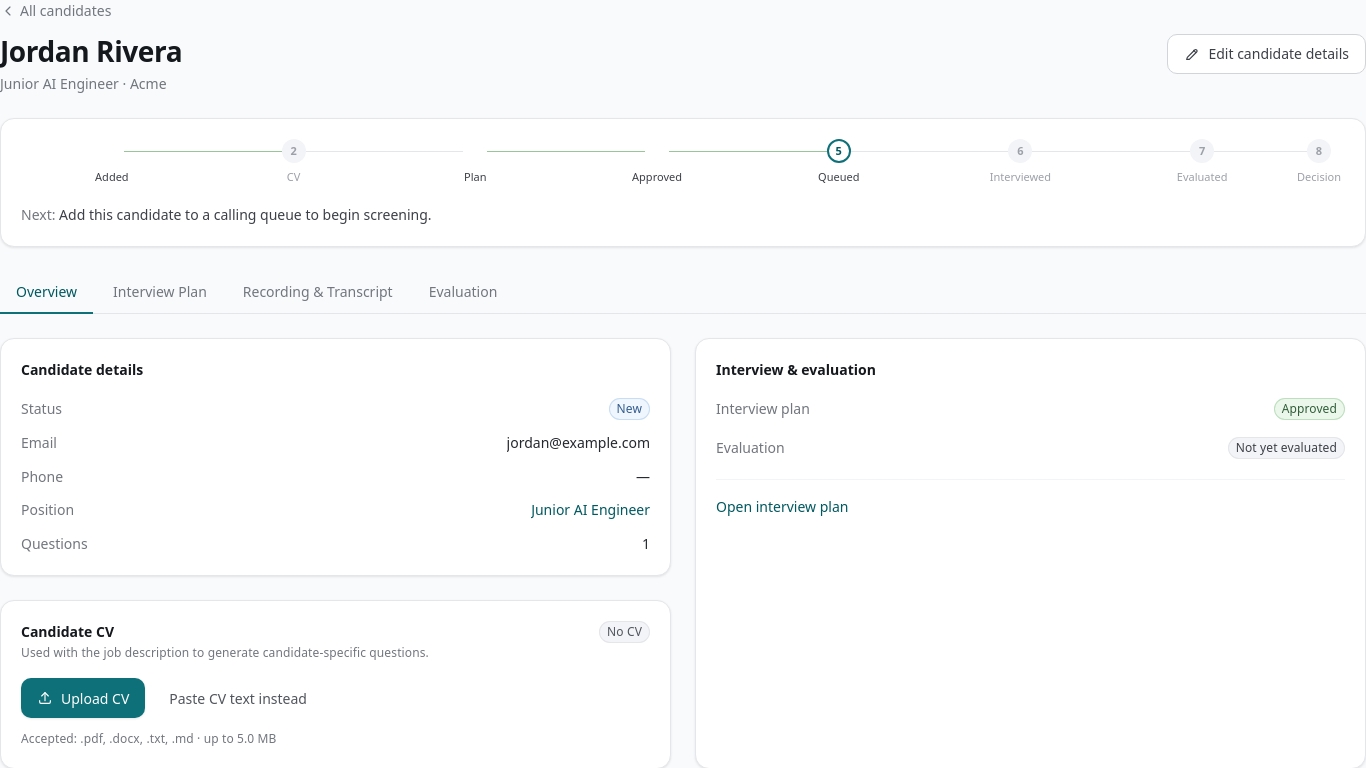
Test case: CandidateDetailPage › renders a compact content-sized prepared-interview empty state
Click the tab "Interview Plan" at point(160, 292), box 97,271 -> 223,314
(page scrolled)
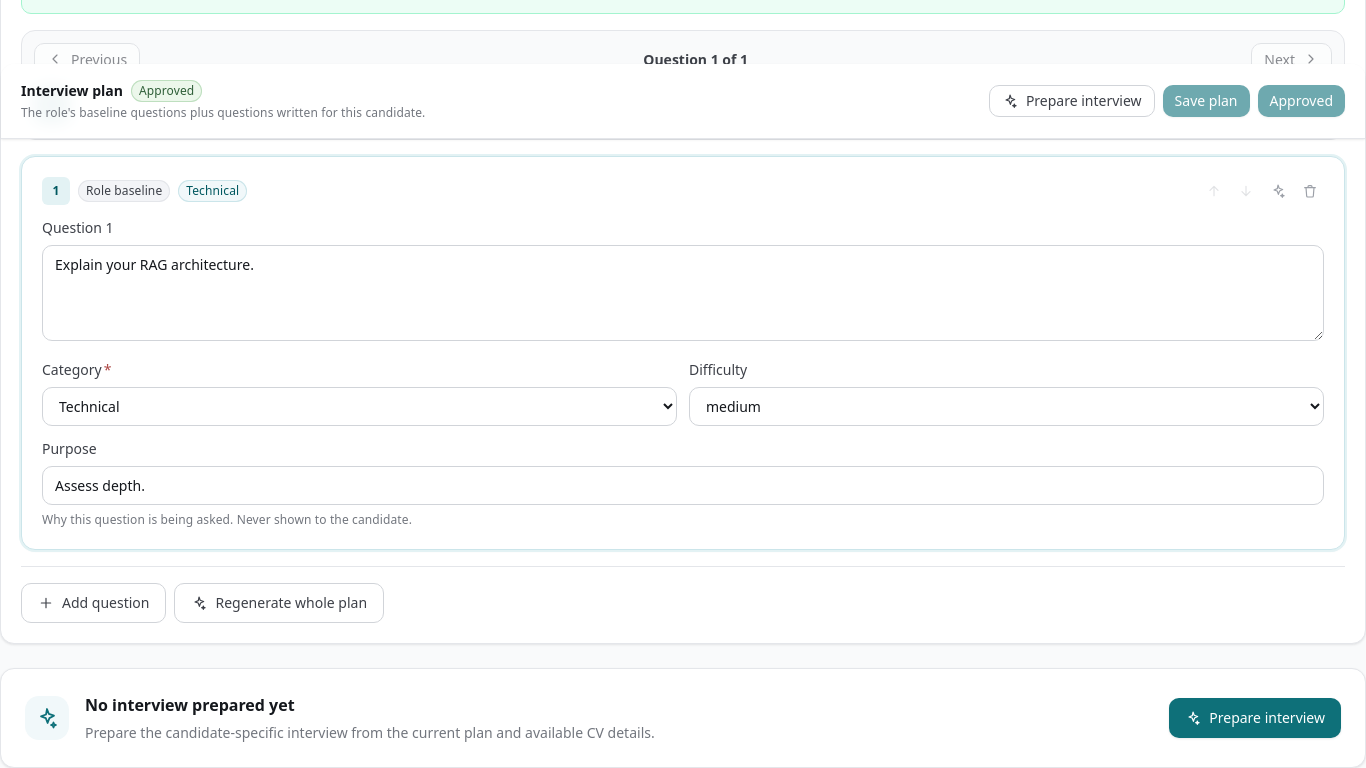
expect the heading "No interview prepared yet" is shown: met, box 85,694 -> 295,716
expect the text "current plan and available CV details" is shown: met, box 85,723 -> 655,742
expect the button "Prepare interview" in the row of "No interview prepared yet" is shown: met, box 1169,698 -> 1341,738
